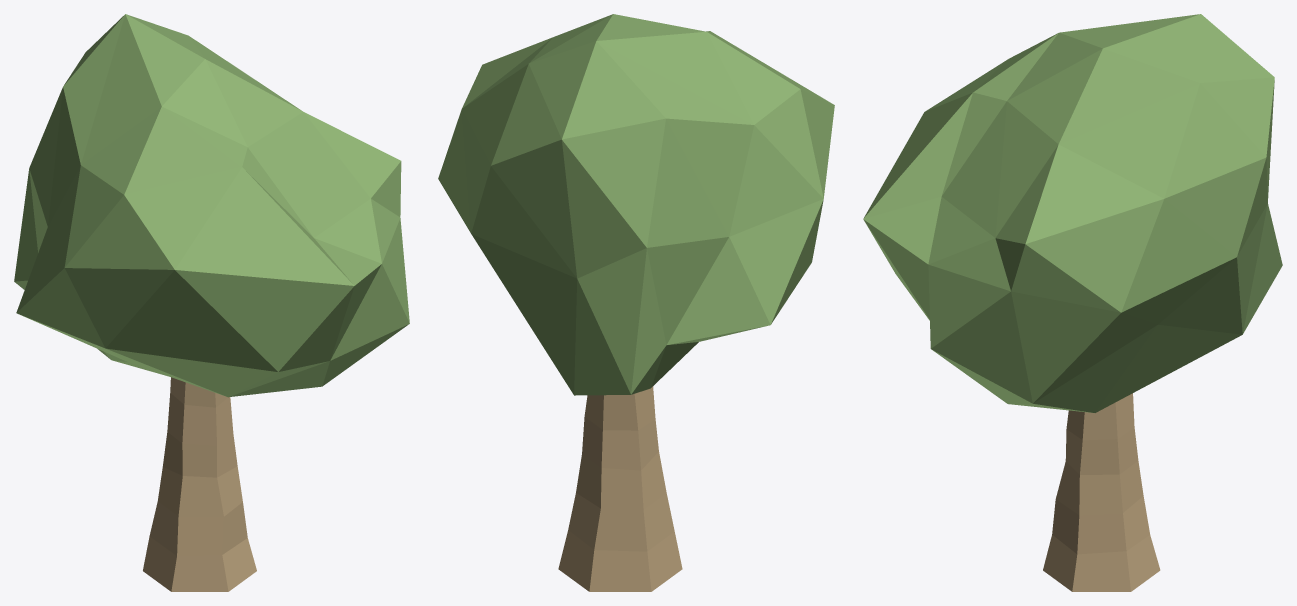
Rendered from Tree_04.fbx.
3 views of the same model, side by side, from view 1: azimuth 30°, elevation 25°; view 2: azimuth 150°, elevation 25°; view 3: azimuth 270°, elevation 25° (orthographic). The views are drawn at different scales.
Visible parts, largest first — view 1: Tree_4; view 2: Tree_4; view 3: Tree_4.
Boxes of the visible parts, x1,y1,x2,y2 form: Tree_4: (14,14,409,591); Tree_4: (438,14,834,591); Tree_4: (863,14,1282,591).
Bounding box in the file's own units: 963 × 1492 × 1044.
